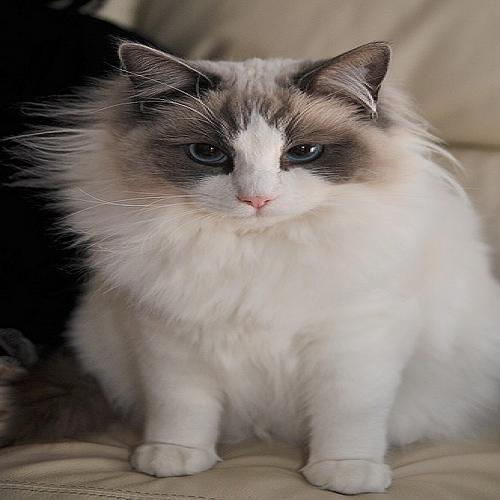ragdoll: (95, 28, 415, 243)
